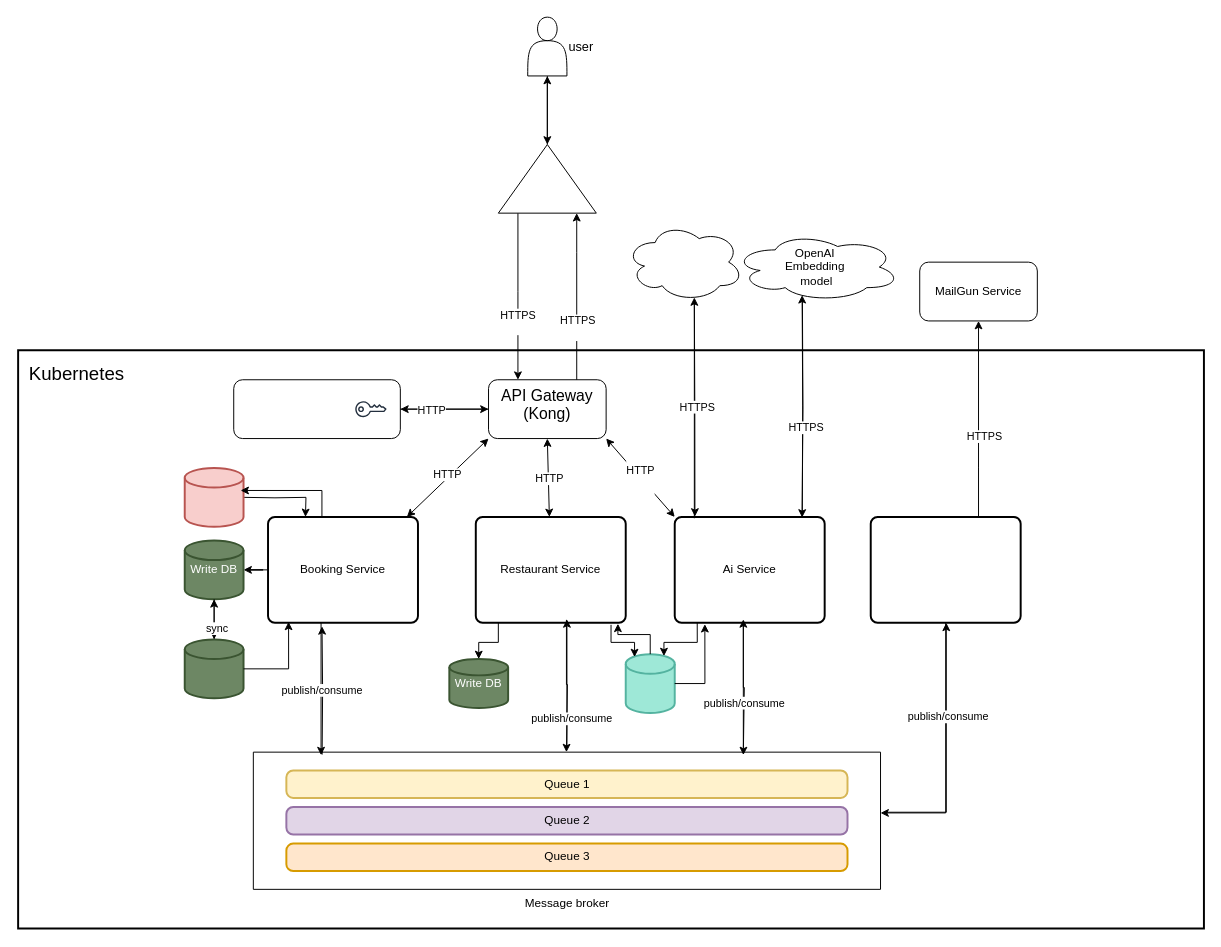
The diagram is 1221 pixels wide and 947 high, and some of its shapes have lost their labels. Each missing label, with the box of its shape:
Auth-Service: (350, 389, 391, 429)
Client app: (497, 144, 596, 213)
Elastic search: (624, 653, 675, 713)
Notification-Service: (869, 515, 1021, 623)
OpenAI-GPT4: (625, 222, 743, 301)
Read DB: (183, 638, 244, 699)
Redis: (183, 466, 244, 527)
